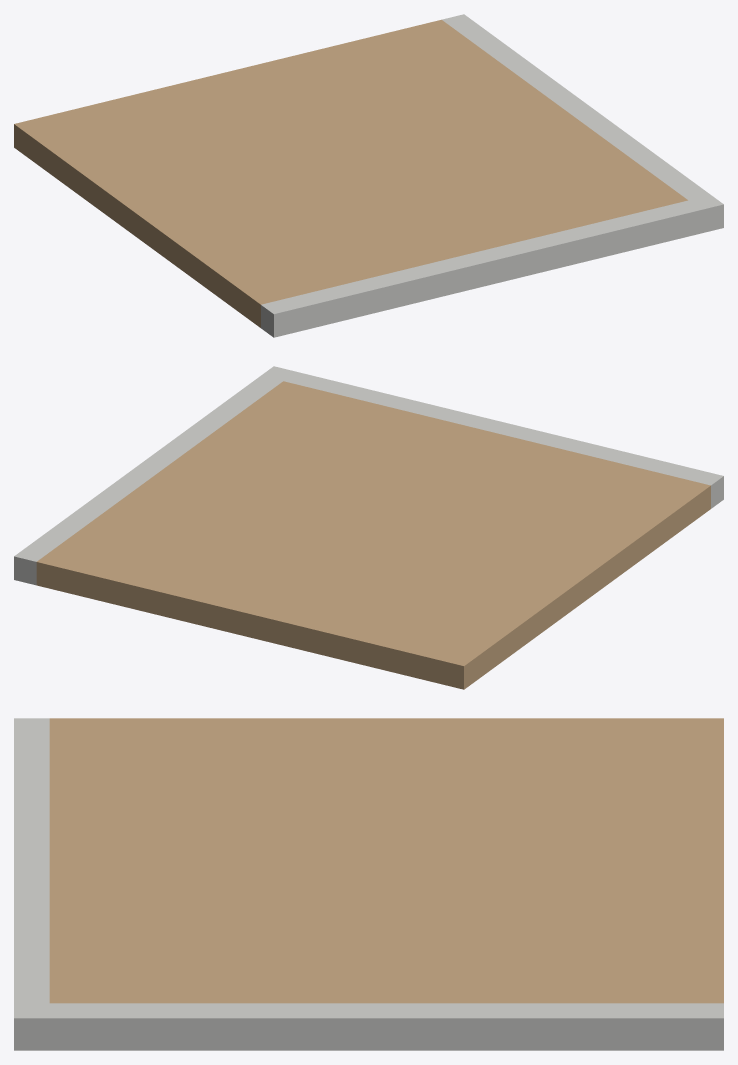
File: SM_Course_Corner90.fbx
The picture shows the model from 3 angles, top to bottom: view 1: azimuth 30°, elevation 25°; view 2: azimuth 150°, elevation 25°; view 3: azimuth 270°, elevation 25°; orthographic projection. The views are drawn at different scales.
Visible parts, largest first — view 1: SM_Course_Corner90; view 2: SM_Course_Corner90; view 3: SM_Course_Corner90.
Boxes of the visible parts, x1=… form: SM_Course_Corner90: x1=14, y1=14, x2=723, y2=337; SM_Course_Corner90: x1=14, y1=366, x2=723, y2=689; SM_Course_Corner90: x1=14, y1=718, x2=723, y2=1050.
Bounding box in the file's own units: 200 × 10 × 200.
